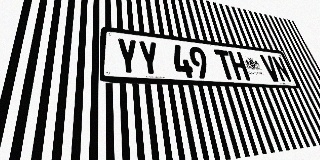4: (171, 44, 194, 78)
9: (188, 46, 211, 79)
H: (228, 51, 251, 81)
N: (271, 56, 293, 83)
T: (214, 49, 237, 80)
V: (260, 55, 282, 82)
Y: (116, 37, 140, 76), (137, 40, 161, 76)
